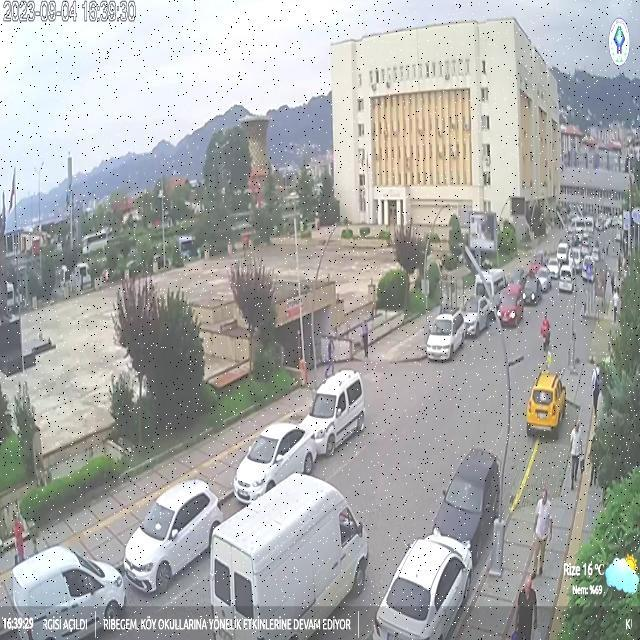Car: (122, 479, 222, 595), (373, 535, 473, 640), (432, 450, 500, 567), (233, 422, 319, 503), (299, 370, 365, 454), (526, 370, 567, 438), (425, 311, 467, 360), (496, 282, 526, 325), (462, 302, 489, 337), (520, 276, 542, 304), (534, 266, 552, 292), (581, 258, 596, 283), (546, 257, 560, 280), (568, 247, 582, 268), (556, 242, 569, 264), (528, 262, 546, 277), (575, 231, 588, 245), (580, 244, 591, 258), (590, 247, 600, 261), (584, 216, 594, 230), (613, 216, 623, 228), (614, 230, 622, 244), (604, 217, 612, 229)
Van: (209, 472, 365, 638), (11, 547, 126, 637), (469, 268, 506, 323), (558, 266, 574, 292)
